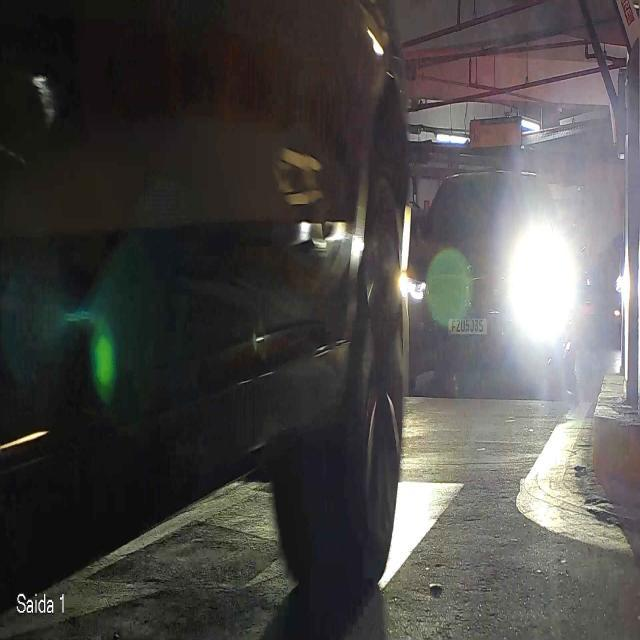mercosul_plate: (446, 315, 489, 338)
